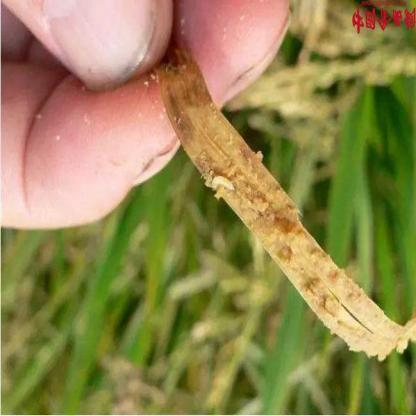whorl-maggot: (210, 164, 235, 202)
